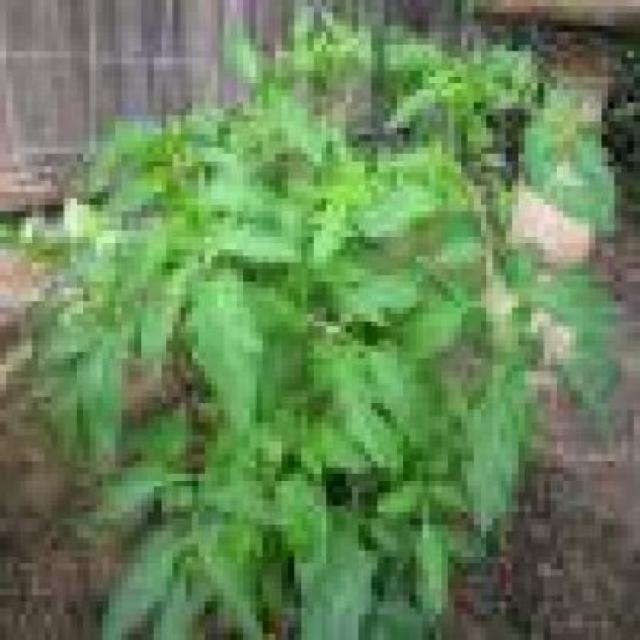Tomato leaf bacterial spot: (463, 372, 534, 558), (507, 251, 615, 354), (193, 277, 264, 431), (78, 303, 135, 487), (341, 167, 469, 238), (187, 526, 270, 635), (309, 519, 386, 635), (366, 335, 437, 456), (110, 519, 181, 635), (250, 295, 309, 430), (206, 212, 303, 289), (334, 264, 431, 341), (84, 110, 161, 206), (181, 167, 283, 238), (92, 457, 175, 540), (540, 175, 623, 258), (552, 347, 623, 443), (141, 258, 199, 373), (339, 353, 392, 475), (21, 315, 98, 398), (212, 463, 283, 552), (264, 469, 321, 570), (98, 167, 175, 238), (309, 424, 386, 495), (111, 212, 194, 276), (123, 410, 200, 469), (386, 78, 449, 149), (264, 98, 327, 169), (181, 135, 258, 193), (309, 194, 353, 277), (226, 40, 270, 97), (424, 238, 487, 276), (212, 238, 309, 262)
